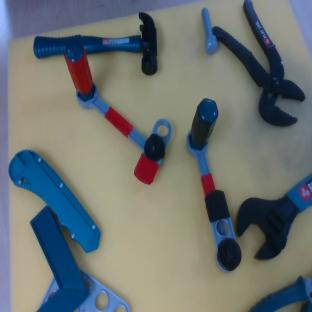non_pass: (180, 98, 244, 274)
pass: (44, 27, 191, 188)
